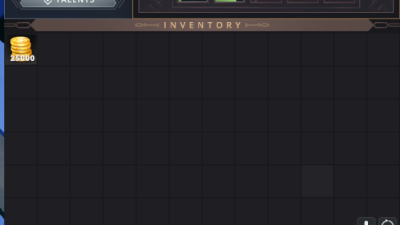gold: (3, 33, 36, 63)
